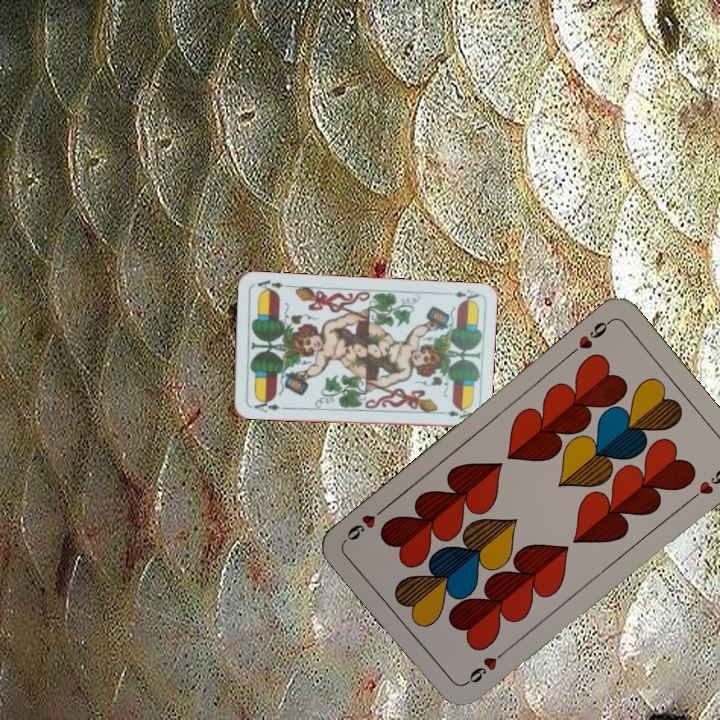EA: (246, 395, 287, 415), (450, 286, 482, 305)
H9: (565, 316, 614, 358), (461, 645, 510, 687)
